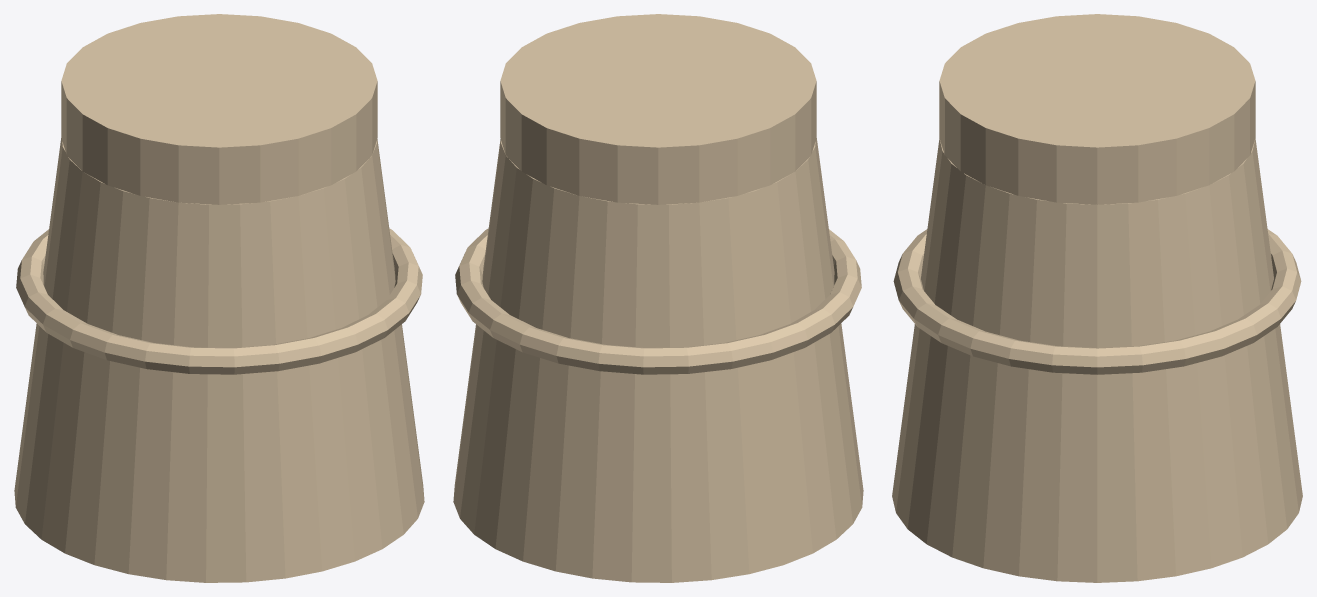
File: item_44_bottle_stopper.glb
3 views of the same model, side by side, from view 1: azimuth 30°, elevation 25°; view 2: azimuth 150°, elevation 25°; view 3: azimuth 270°, elevation 25° (orthographic).
Visible parts, largest first — view 1: I44_Body, I44_Top, I44_Ridge; view 2: I44_Body, I44_Top, I44_Ridge; view 3: I44_Body, I44_Top, I44_Ridge.
Boxes of the visible parts, bbox=[...] form: I44_Body: bbox=[14, 138, 424, 582]; I44_Top: bbox=[61, 14, 377, 204]; I44_Ridge: bbox=[16, 228, 422, 374]; I44_Body: bbox=[453, 138, 863, 582]; I44_Top: bbox=[500, 14, 816, 204]; I44_Ridge: bbox=[455, 228, 861, 374]; I44_Body: bbox=[892, 138, 1302, 582]; I44_Top: bbox=[939, 14, 1255, 204]; I44_Ridge: bbox=[893, 229, 1301, 374].
Size of the model in its own units: 0.052 by 0.058 by 0.052.
